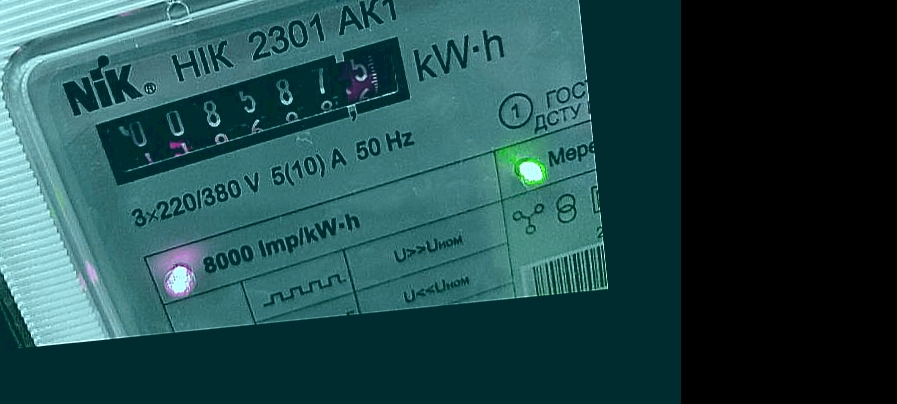0: (159, 103, 188, 139), (122, 115, 151, 149)
5: (233, 83, 259, 116), (344, 49, 369, 83)
6: (353, 84, 373, 103)
7: (307, 62, 332, 98)
8: (269, 73, 296, 108), (197, 95, 224, 129)
screen: (80, 33, 437, 189)
